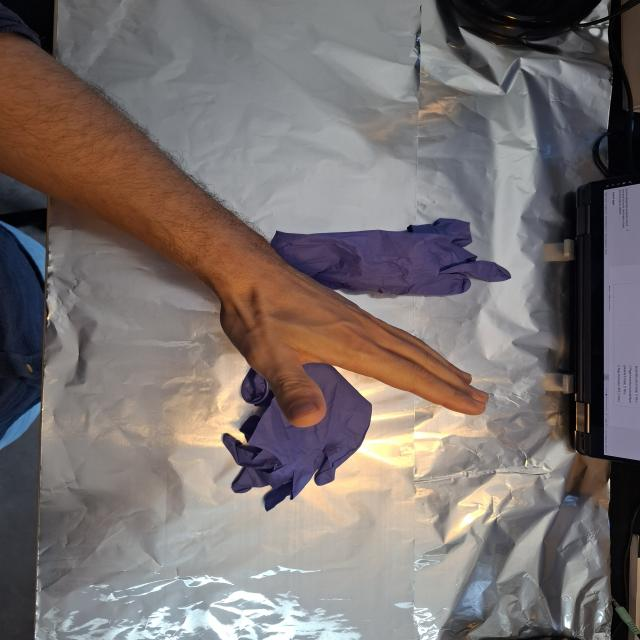glove_off: (216, 264, 492, 428)
